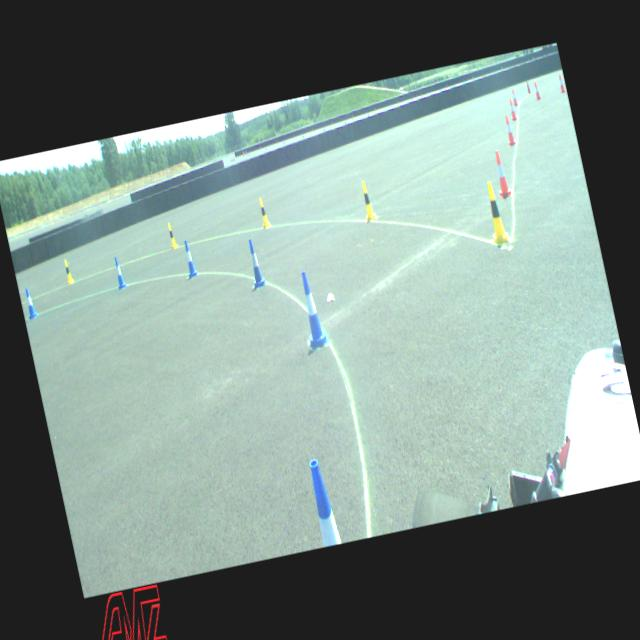blue_cone: (306, 457, 342, 547), (294, 268, 330, 349), (243, 237, 266, 289), (181, 239, 198, 278), (112, 256, 126, 288), (23, 286, 37, 318)
orange_cone: (491, 149, 512, 197), (502, 114, 516, 146), (507, 97, 517, 120), (533, 81, 541, 99), (557, 74, 565, 92), (511, 88, 518, 105)
unknown_cone: (526, 80, 530, 93)
yellow_cone: (480, 181, 510, 246), (358, 180, 376, 220), (257, 197, 271, 228), (166, 222, 178, 248), (63, 258, 74, 284)
